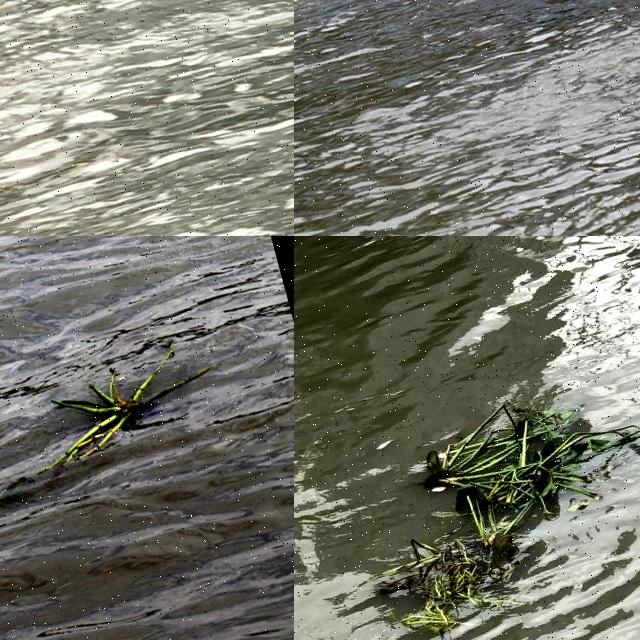water-hyacinth: (375, 395, 640, 635)
